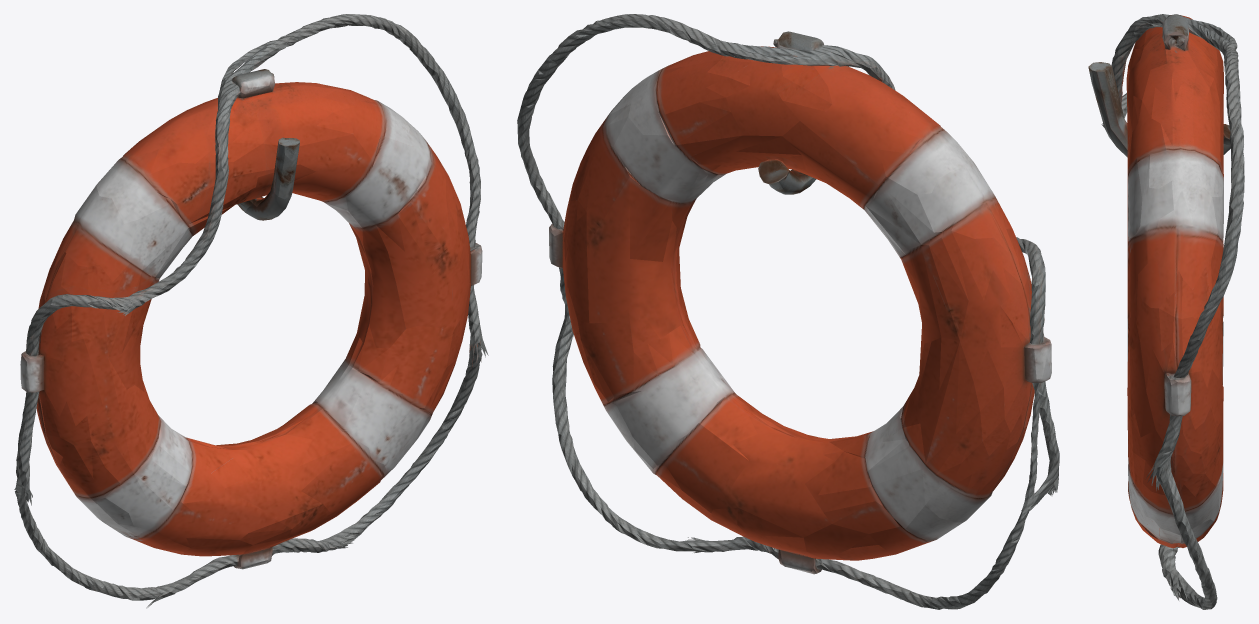
The model's file is salvagente_anulare.glb.
3 renders of one model, left to right at view 1: azimuth 30°, elevation 25°; view 2: azimuth 150°, elevation 25°; view 3: azimuth 270°, elevation 25°, orthographic. The views are drawn at different scales.
Visible parts, largest first — view 1: Mesh_0; view 2: Mesh_0; view 3: Mesh_0.
Part boxes in pixels (box(x1,y1,x2,y2)): Mesh_0: box(14, 14, 488, 608); Mesh_0: box(517, 14, 1059, 609); Mesh_0: box(1088, 14, 1244, 609).
Bounding box in the file's own units: 1.84 × 1.9 × 0.4926.
1 material, 1 textured.
